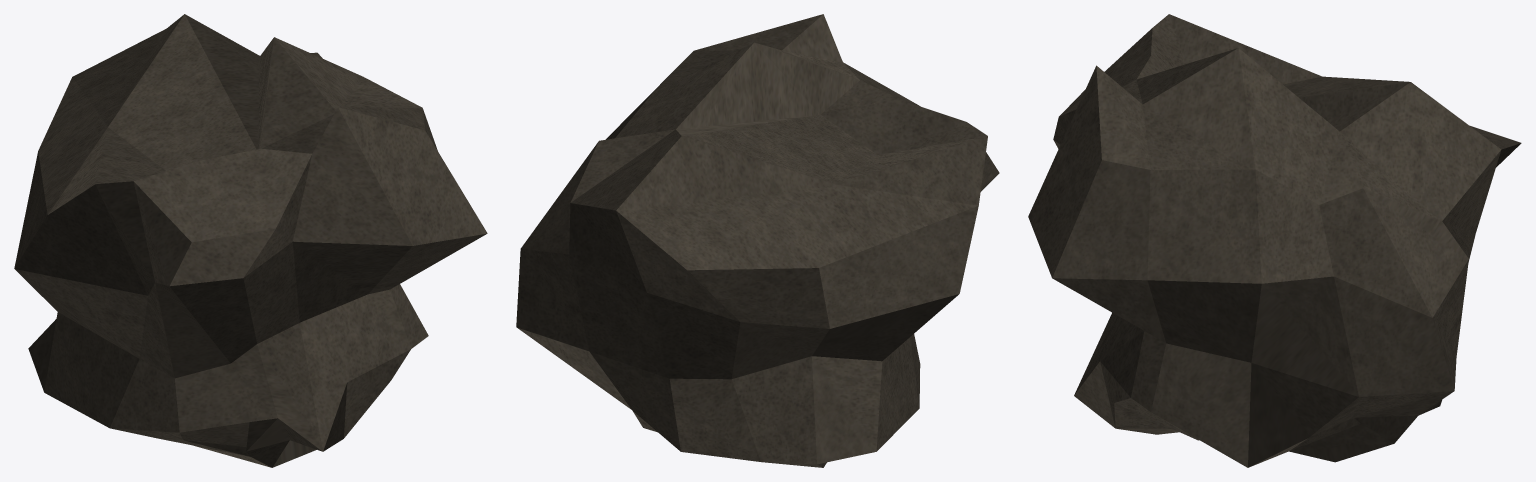
Rendered from Pedra_2_Base.fbx.
3 views of the same model, side by side, from view 1: azimuth 30°, elevation 25°; view 2: azimuth 150°, elevation 25°; view 3: azimuth 270°, elevation 25° (orthographic). The views are drawn at different scales.
Parts seen in each view (by area): view 1: Pedra_2; view 2: Pedra_2; view 3: Pedra_2.
Part boxes in pixels (bbox=[...]): Pedra_2: bbox=[14, 14, 487, 467]; Pedra_2: bbox=[516, 14, 999, 467]; Pedra_2: bbox=[1028, 14, 1521, 467].
Size of the model in its own units: 189 by 178 by 195.
Materials: 1 (1 with a texture image).
